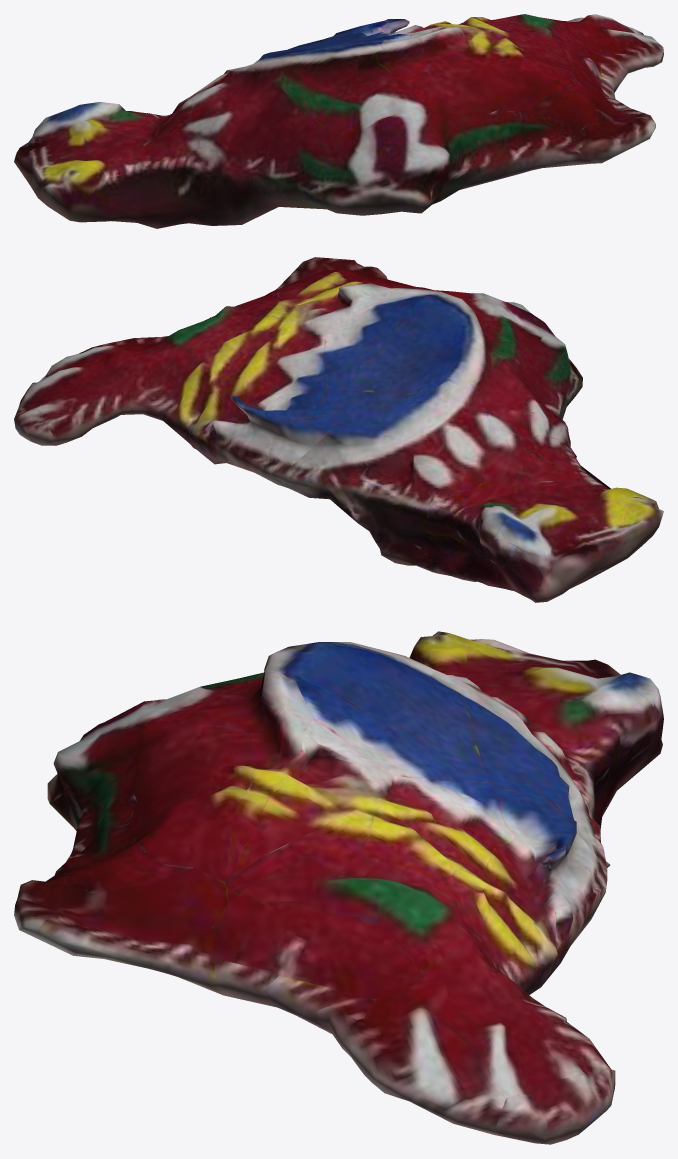
File: hall.glb
The picture shows the model from 3 angles, top to bottom: view 1: azimuth 30°, elevation 25°; view 2: azimuth 150°, elevation 25°; view 3: azimuth 270°, elevation 25°; orthographic projection. The views are drawn at different scales.
Size of the model in its own units: 0.8961 by 0.26 by 0.5304.
1 material, 1 textured.
